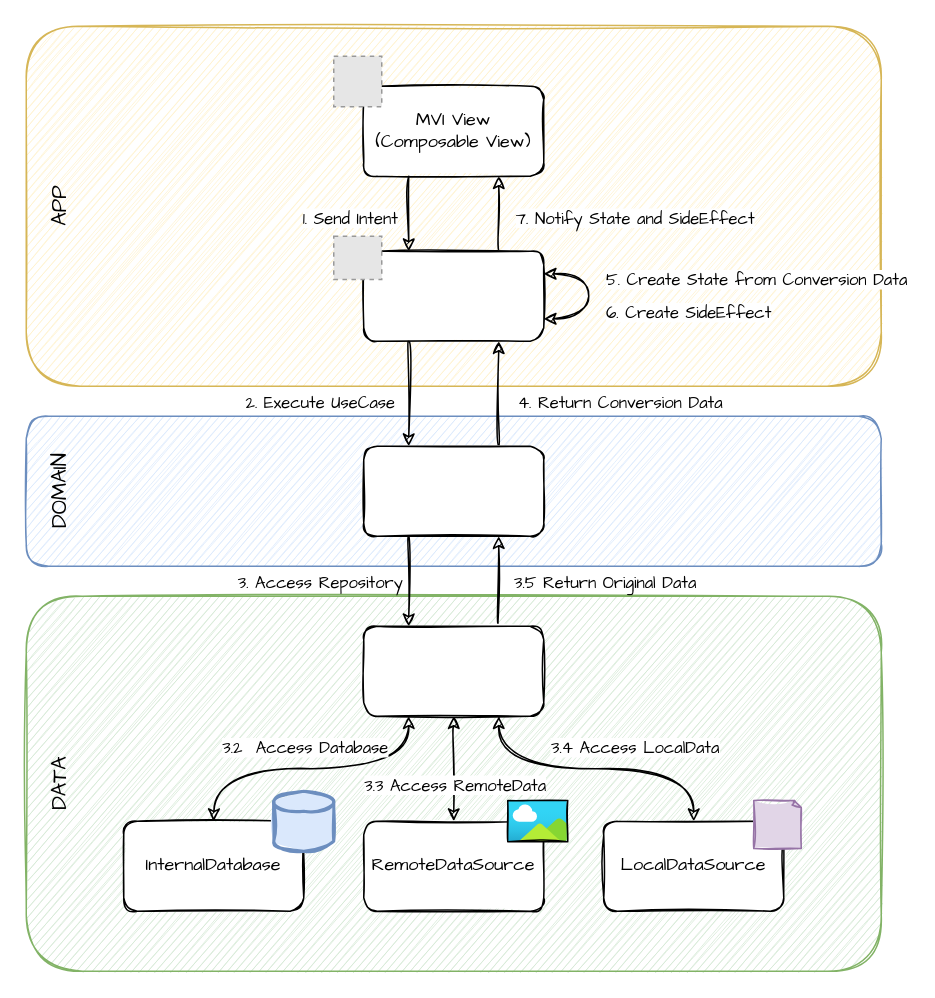
Image size: 935x998. Some labels were removed from this diagram. Grey dashed boxes stand in for pictures. The shapes that lost their labels are listed below. From the top down, each one's centre as x and y in pixels, then its label:
At point 453,295: "MVI Model (ViewModel)".
At point 453,490: "UseCase".
At point 453,670: "Repository".
At point 777,824: "JSON".
